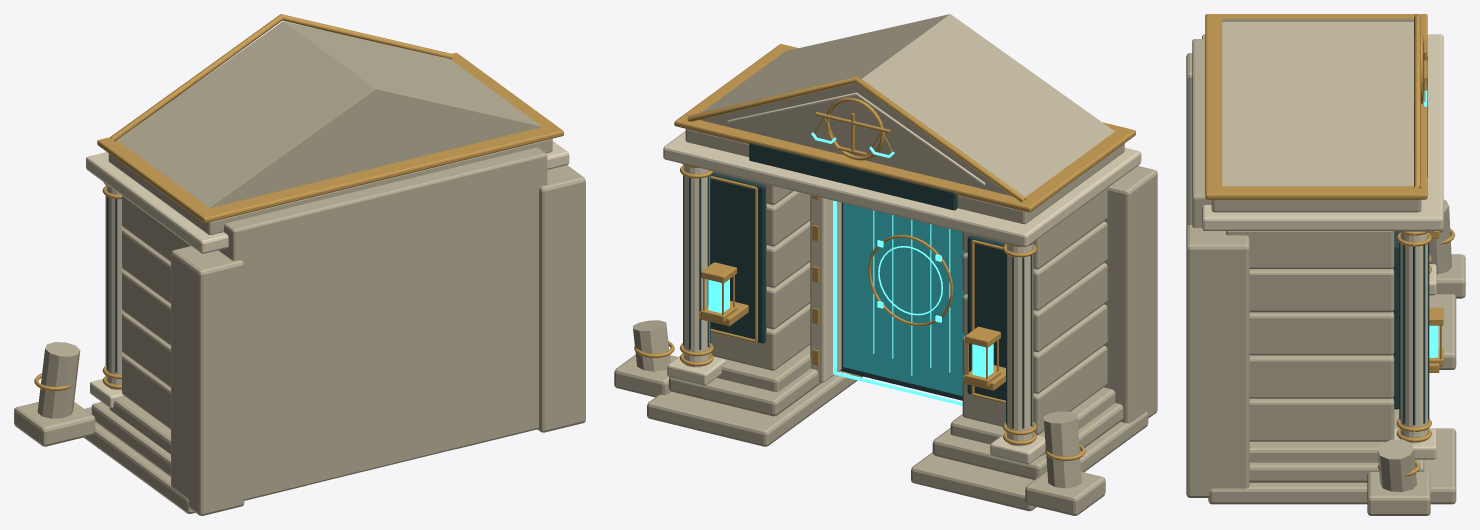
The model's file is weight-sanctuary-v01.fbx.
The picture shows the model from 3 angles, left to right: view 1: azimuth 30°, elevation 25°; view 2: azimuth 150°, elevation 25°; view 3: azimuth 270°, elevation 25°; orthographic projection. The views are drawn at different scales.
Parts seen in each view (by area): view 1: Sanctuary rear wall, Triangular pediment, Rear side buttress, Rear side buttress.001, Entablature.002, Entablature, Entablature.001, Round fluted column, Golden pediment edge, Ruined pillar shaft, Stepped side foundation, Ruined pillar base (+7 smaller); view 2: Triangular pediment, Teal portal surface, Rear side buttress, Entablature, Entablature.002, Recessed pier tablet.001, Stepped side foundation.003, Stepped side foundation, Carved inner jamb.001, Round fluted column, Recessed pier tablet, Dressed pier course (+29 smaller); view 3: Triangular pediment, Rear side buttress.001, Entablature.002, Entablature, Dressed pier course.006, Dressed pier course.008, Dressed pier course.007, Dressed pier course.005, Dressed pier course.009, Stepped side foundation.003, Round fluted column.001, Stepped side foundation.005 (+18 smaller).
Boxes of the visible parts, x1,y1,x2,y2 form: Sanctuary rear wall: [219, 147, 547, 500]; Triangular pediment: [117, 21, 542, 207]; Rear side buttress: [171, 246, 244, 515]; Rear side buttress.001: [537, 165, 585, 432]; Entablature.002: [97, 53, 563, 223]; Entablature: [86, 141, 569, 253]; Entablature.001: [108, 139, 552, 234]; Round fluted column: [106, 185, 125, 390]; Golden pediment edge: [110, 14, 452, 141]; Ruined pillar shaft: [37, 342, 80, 418]; Stepped side foundation: [83, 407, 306, 513]; Ruined pillar base: [14, 402, 95, 446]; Triangular pediment: [700, 14, 1114, 196]; Teal portal surface: [843, 203, 965, 395]; Rear side buttress: [1104, 166, 1157, 423]; Entablature: [663, 131, 1141, 247]; Entablature.002: [674, 44, 1135, 212]; Recessed pier tablet.001: [710, 172, 766, 343]; Stepped side foundation.003: [647, 371, 862, 446]; Stepped side foundation: [911, 411, 1148, 511]; Carved inner jamb.001: [810, 195, 841, 382]; Round fluted column: [1006, 244, 1033, 446]; Recessed pier tablet: [967, 235, 1005, 400]; Dressed pier course: [962, 346, 1107, 434]; Triangular pediment: [1222, 19, 1413, 186]; Rear side buttress.001: [1186, 224, 1249, 497]; Entablature.002: [1205, 14, 1427, 199]; Entablature: [1202, 34, 1443, 230]; Dressed pier course.006: [1249, 355, 1394, 398]; Dressed pier course.008: [1249, 268, 1394, 312]; Dressed pier course.007: [1249, 312, 1394, 355]; Dressed pier course.005: [1249, 398, 1394, 441]; Dressed pier course.009: [1226, 231, 1394, 268]; Stepped side foundation.003: [1208, 428, 1456, 504]; Round fluted column.001: [1400, 232, 1428, 443]; Stepped side foundation.005: [1249, 409, 1399, 462].
Bounding box in the file's own units: 910 × 680 × 440.
